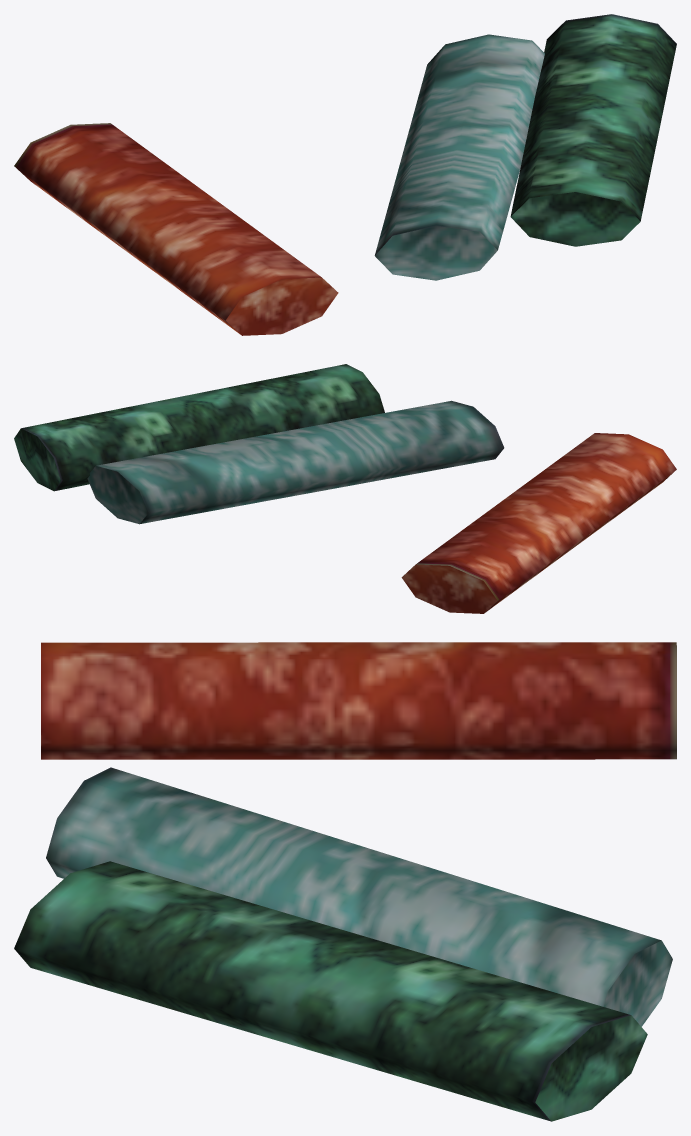
File: bujuan_01.FBX
3 views of the same model, one above another, from view 1: azimuth 30°, elevation 25°; view 2: azimuth 150°, elevation 25°; view 3: azimuth 270°, elevation 25° (orthographic). The views are drawn at different scales.
Visible parts, largest first — view 1: bujuan_01; view 2: bujuan_01; view 3: bujuan_01.
Part boxes in pixels (x1,y1,x2,y2): bujuan_01: (14,14,676,335); bujuan_01: (14,364,676,613); bujuan_01: (14,642,676,1121).
Size of the model in its own units: 1.82 by 0.1723 by 1.13.
